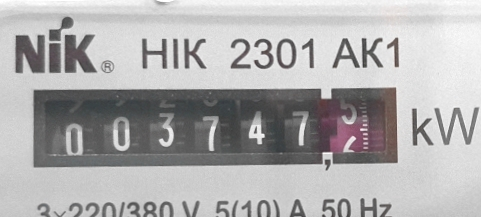0: (110, 113, 131, 151), (63, 120, 85, 156)
3: (156, 110, 176, 147)
4: (245, 107, 266, 147)
5: (338, 96, 358, 125)
6: (339, 132, 358, 153)
7: (289, 106, 312, 147), (200, 112, 220, 152)
screen: (22, 71, 413, 185)
